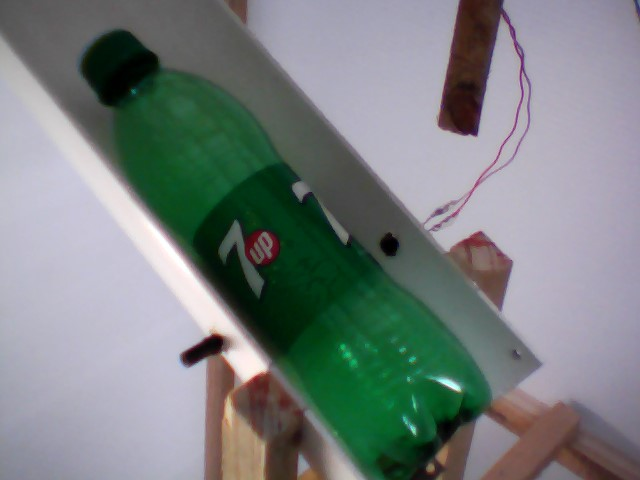plastico: (72, 26, 495, 480)
